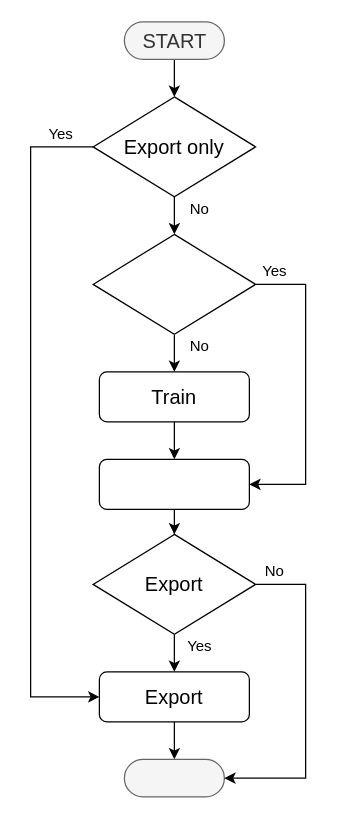
The diagram is 338 pixels wide and 819 high, and some of its shapes have lost their labels. The box of each missing label's shape, as (x1, y1, x2, y2) in pixels:
END: (123, 758, 224, 797)
Evaluate: (98, 458, 249, 509)
Evaluate only: (92, 233, 256, 334)
